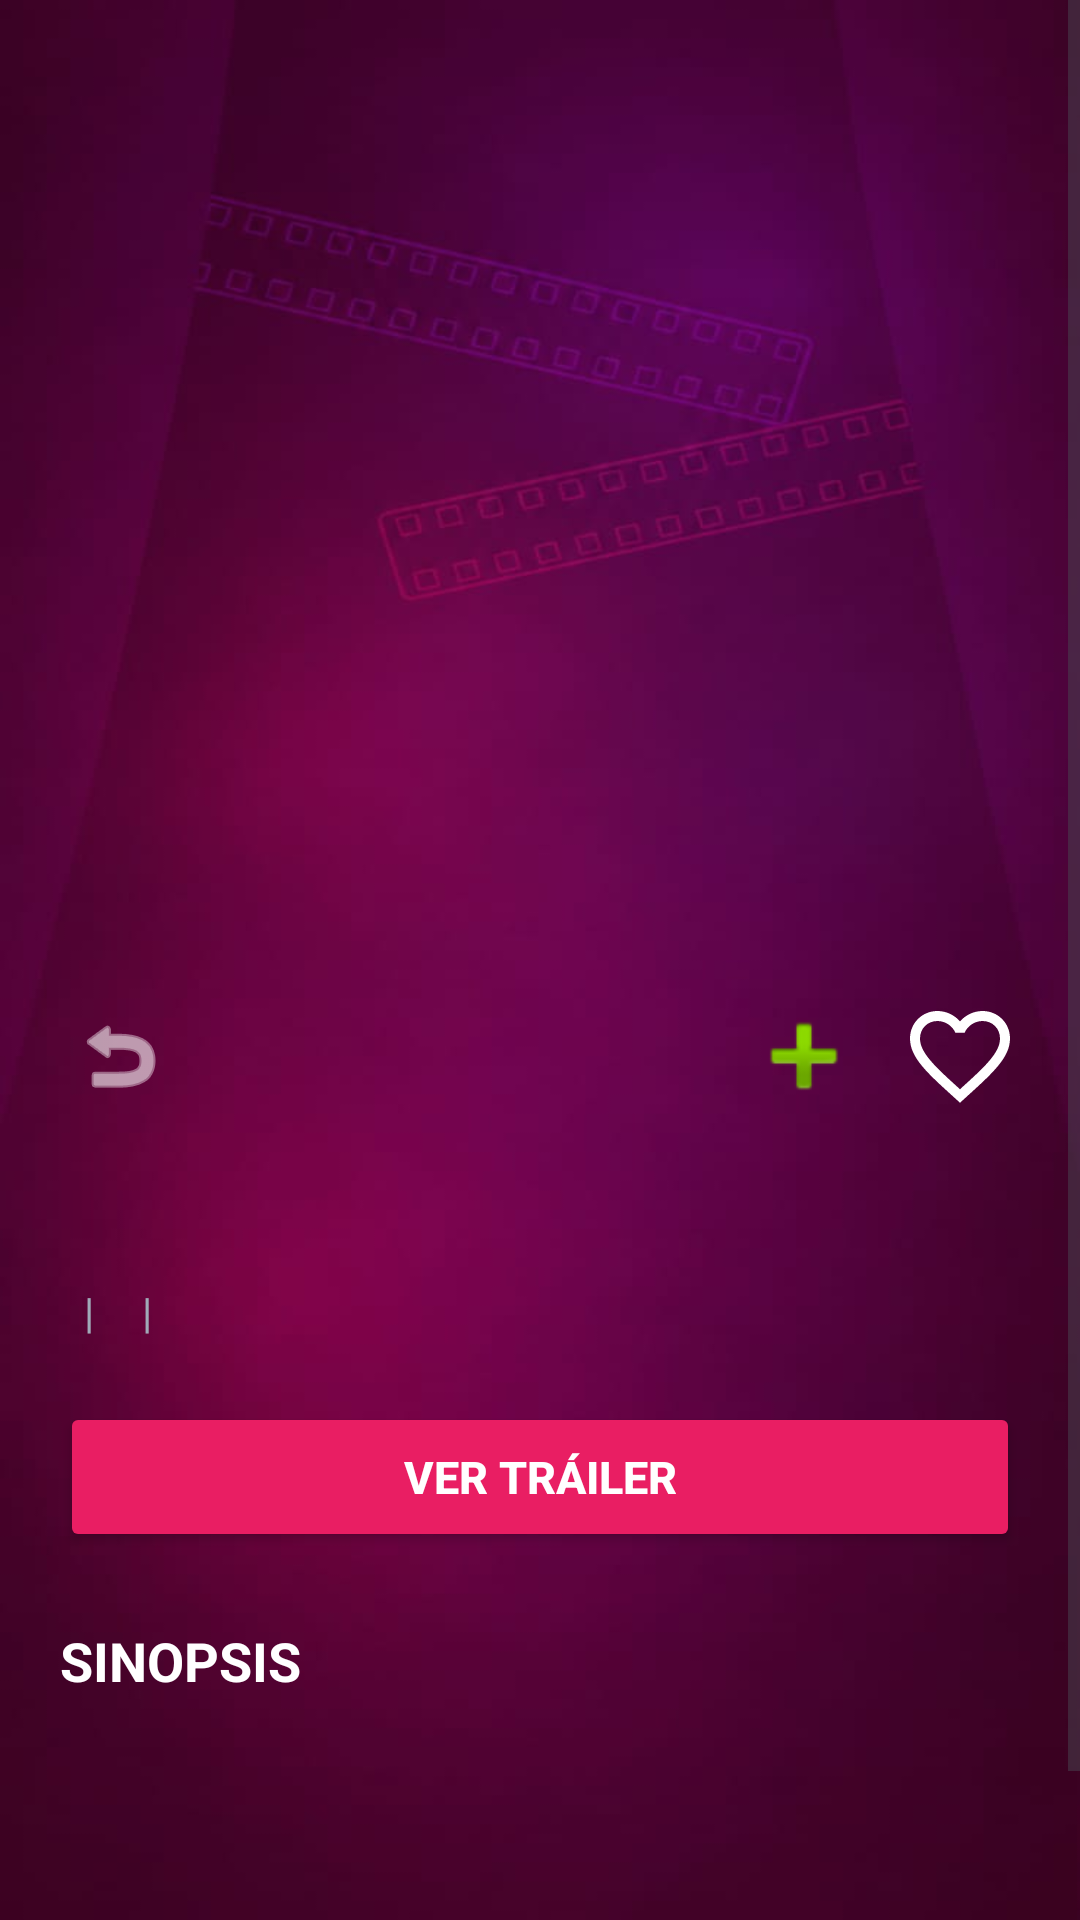

Screen size 1080 × 1920. Icon name, then its box in pixels as {"left": x1, "top": y1, "right": x2, "bottom": y2}:
Volver: {"left": 87, "top": 1025, "right": 156, "bottom": 1088}
